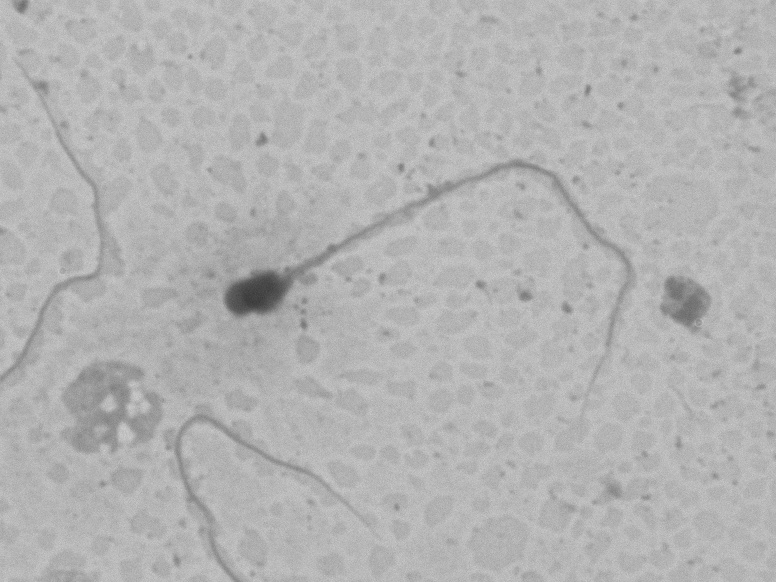Abnormal: (212, 145, 652, 442)
